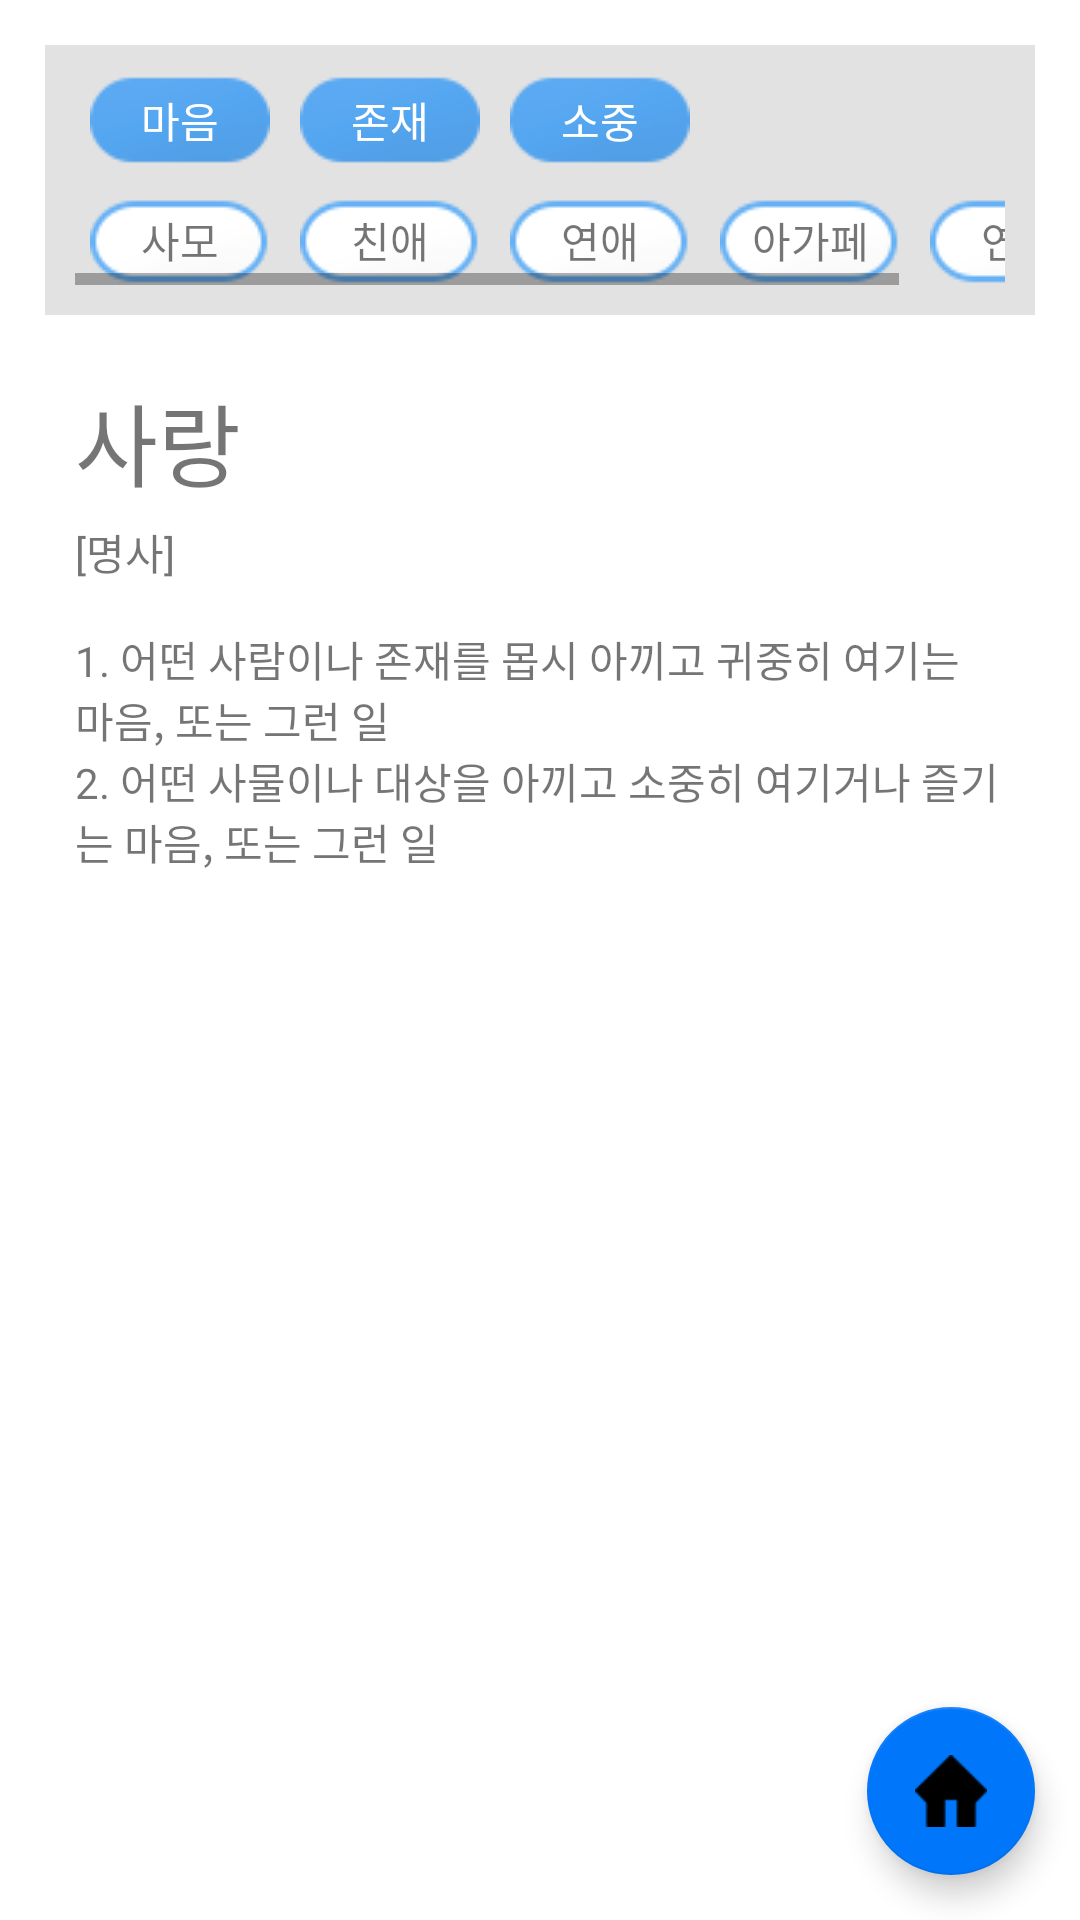

Screen size 1080×1920. Icon name, then its center in pixels as point (x, y):
home: point (951, 1791)
